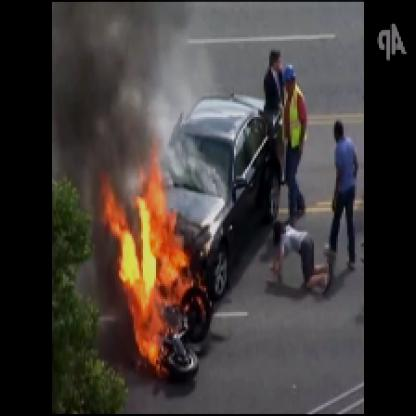Fire: (115, 143, 217, 386)
Smoke: (56, 2, 172, 169)
